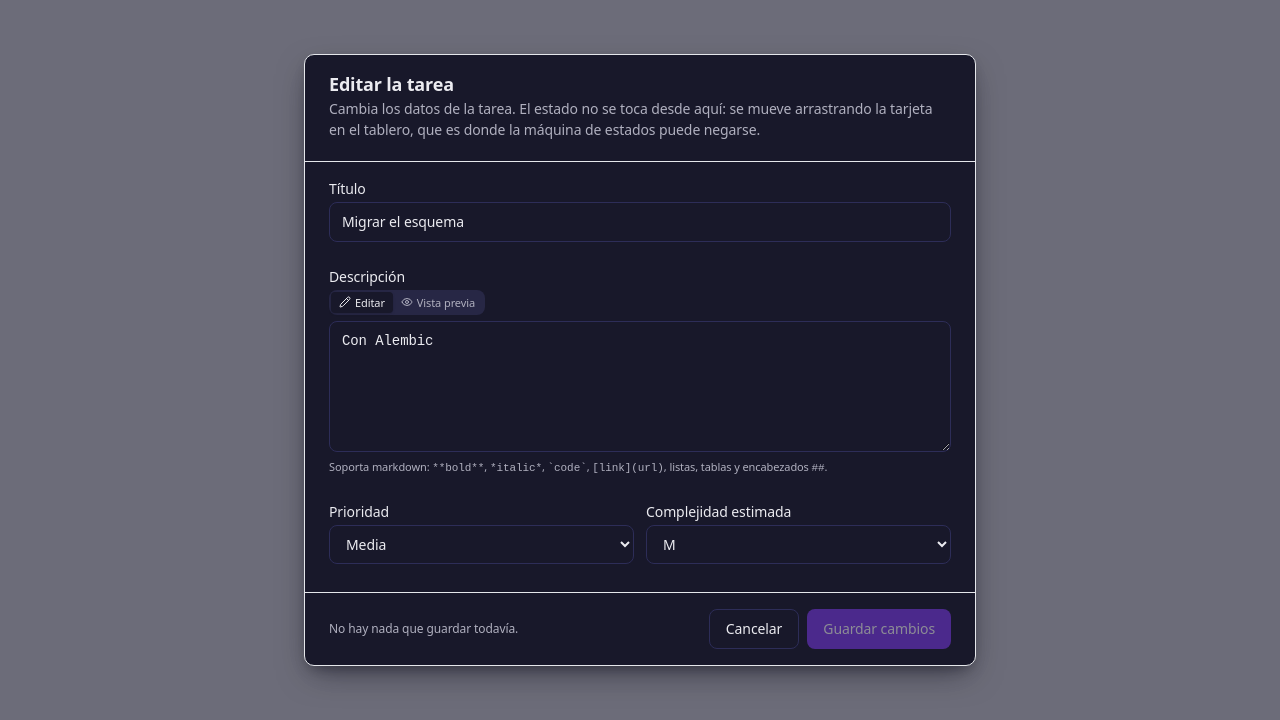
TaskEditDialog — estados › enseña el rechazo del servidor al usuario en vez de tragárselo
Replace the text in the field with test id "task-edit-title" with "Otro título" at (640, 222), box [329,202,951,242]
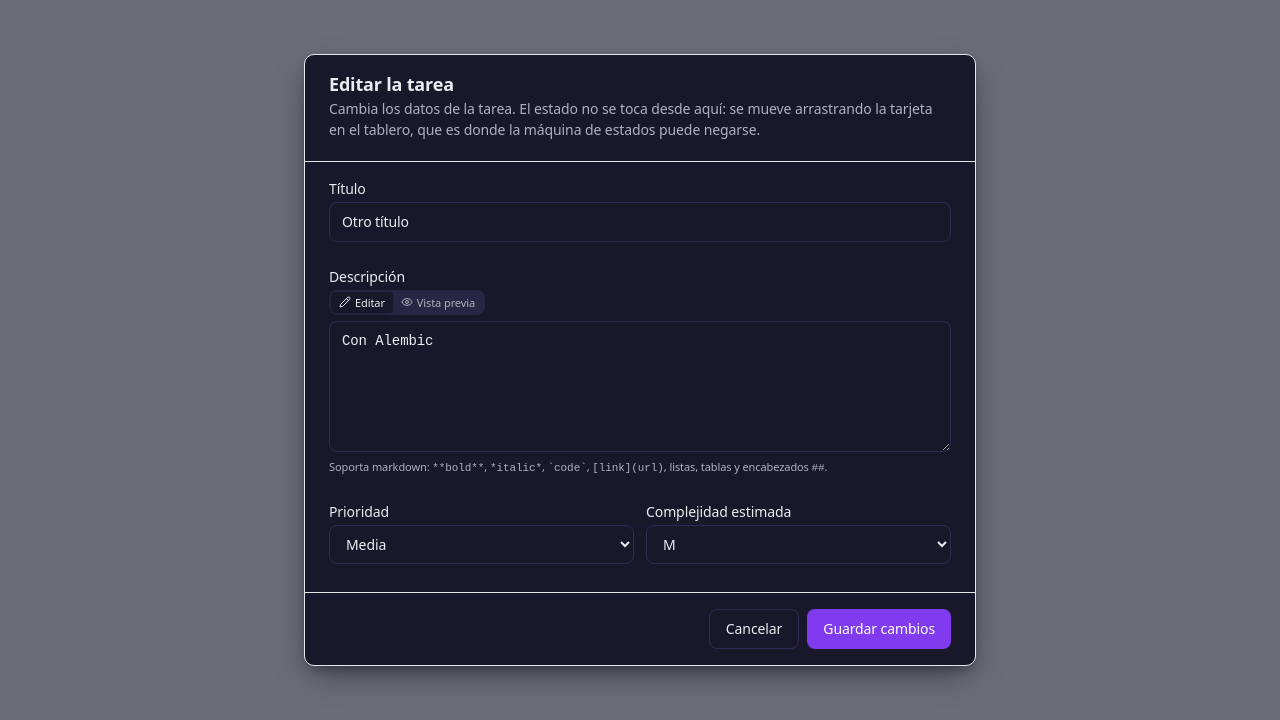
Click the button with test id "task-edit-submit" at (879, 629), box [807,609,951,649]
(page scrolled)
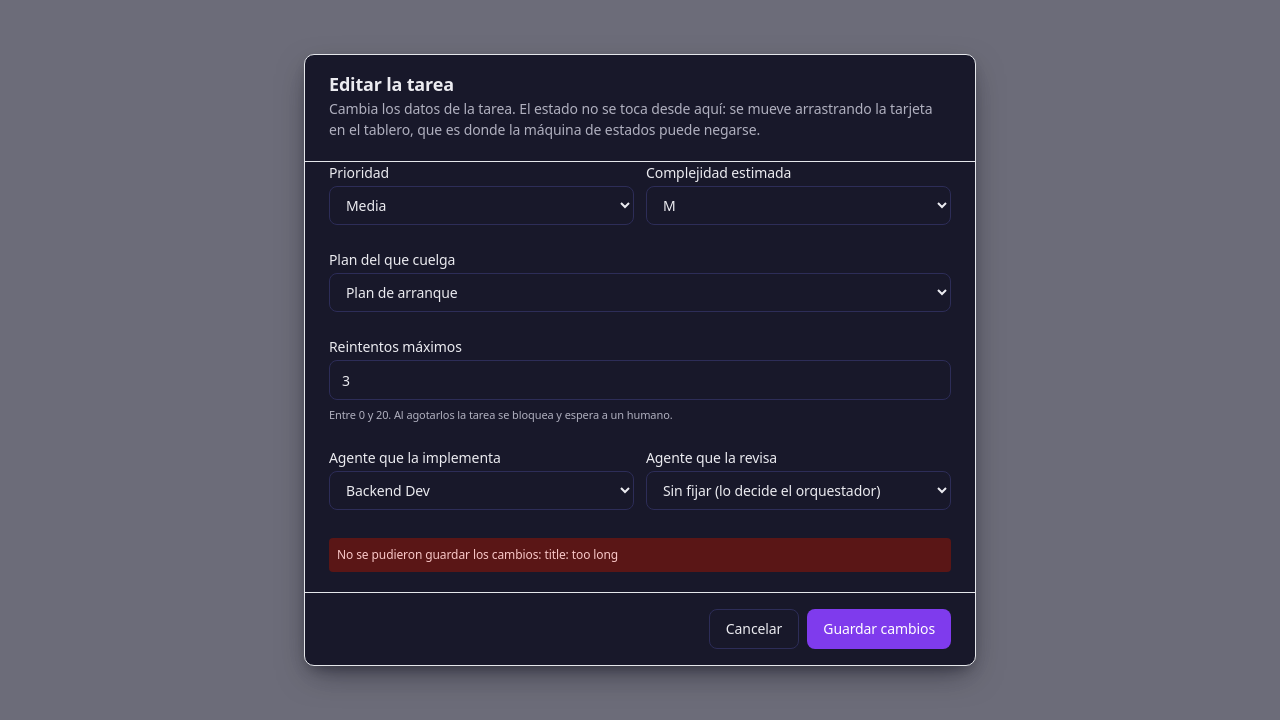
Expected: the text with test id "task-edit-error" shows "too long", [544,546,618,564]
